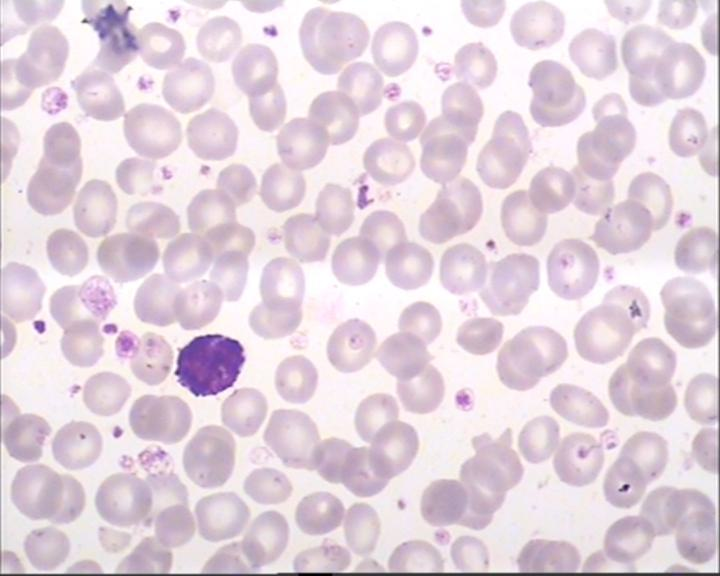baso: (169, 328, 249, 401)
